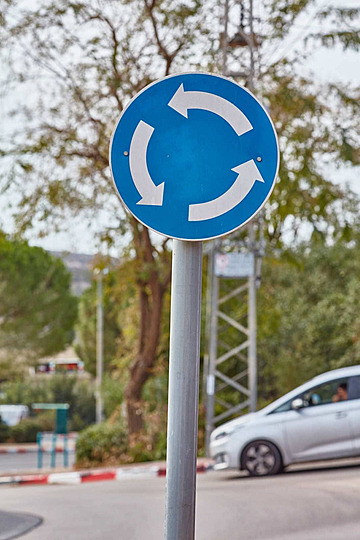roundabout: (91, 46, 289, 277)
